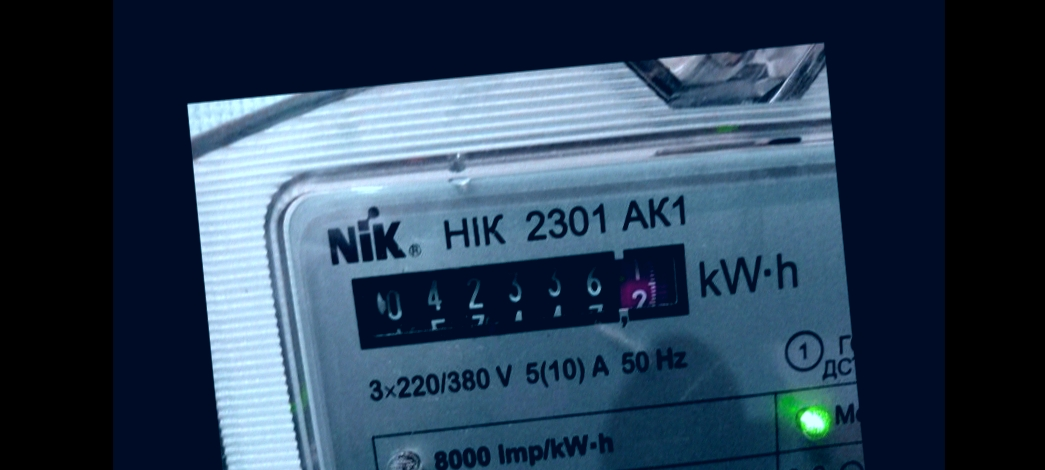0: (383, 286, 406, 323)
1: (629, 254, 644, 284)
2: (463, 274, 486, 312), (629, 288, 650, 310)
3: (503, 266, 526, 306), (541, 263, 564, 300)
4: (423, 275, 445, 314)
6: (580, 262, 605, 299)
screen: (342, 233, 702, 359)
